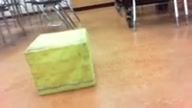cube: (24, 28, 96, 95)
